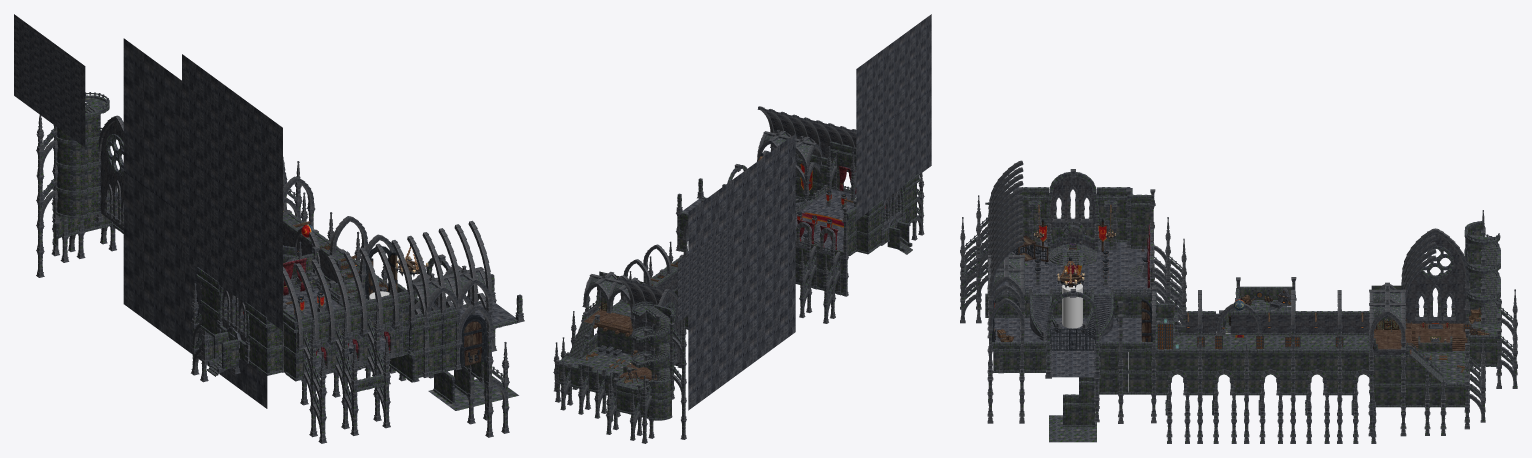
File: LVL1P2.gltf
The picture shows the model from 3 angles, left to right: view 1: azimuth 30°, elevation 25°; view 2: azimuth 150°, elevation 25°; view 3: azimuth 270°, elevation 25°; orthographic projection. The views are drawn at different scales.
Visible parts, largest first — view 1: cieling, cieling (1), cieling (2), P_MOD_Wall_01_E_convex_large (×3), P_MOD_Wall_01_M_corner_large (×2), Plane (1), Ground (1); view 2: cieling (1), cieling, cieling (2), Ground, Plane (2), Plane (1), Plane; view 3: Ground (×3), Plane (×2), Ground (1), Statue, Stairs (2)(Clone), Stairs (2).
Part boxes in pixels (<box>): cieling: <box>182,54,282,330</box>; cieling (1): <box>123,38,267,408</box>; cieling (2): <box>14,14,85,147</box>; P_MOD_Wall_01_E_convex_large (×3): <box>57,141,84,215</box>; P_MOD_Wall_01_M_corner_large (×2): <box>257,321,282,373</box>; Plane (1): <box>100,121,123,229</box>; Ground (1): <box>428,376,518,410</box>; cieling (1): <box>688,134,795,410</box>; cieling: <box>856,14,931,220</box>; cieling (2): <box>678,223,731,322</box>; Ground: <box>795,195,853,247</box>; Plane (2): <box>761,108,816,155</box>; Plane (1): <box>807,119,856,158</box>; Plane: <box>621,278,665,322</box>; Ground (×3): <box>994,248,1141,377</box>; Plane (×2): <box>1050,177,1465,323</box>; Ground (1): <box>1049,415,1096,442</box>; Statue: <box>1062,282,1082,328</box>; Stairs (2)(Clone): <box>1085,295,1113,338</box>; Stairs (2): <box>1030,296,1056,336</box>.
Size of the model in its own units: 74.81 by 92.18 by 140.
36 materials, 34 textured.
